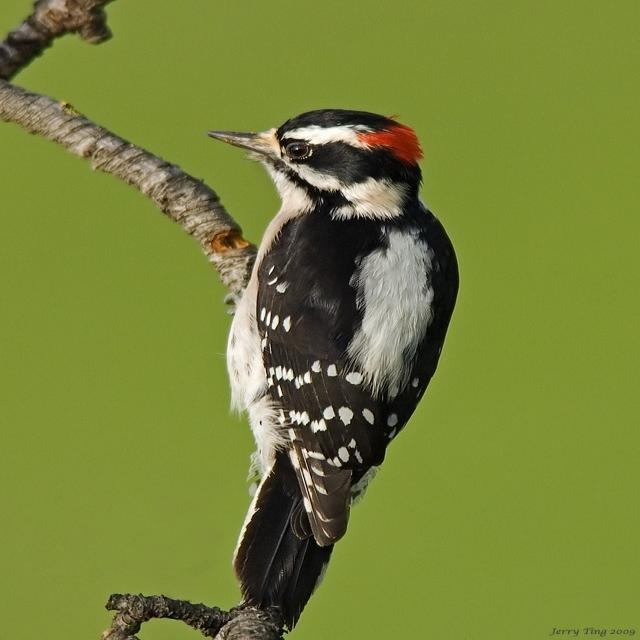bird: (202, 102, 478, 623)
